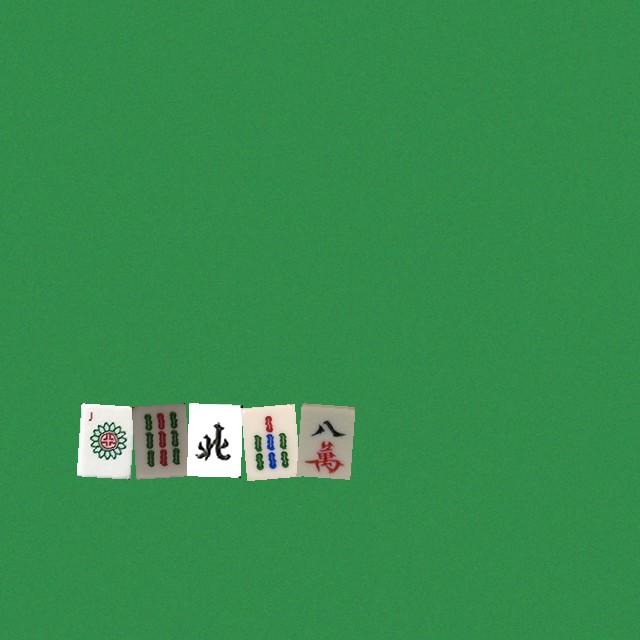tile: (76, 403, 130, 476), (131, 403, 185, 476), (186, 403, 240, 476), (241, 403, 295, 476), (296, 403, 350, 476)
